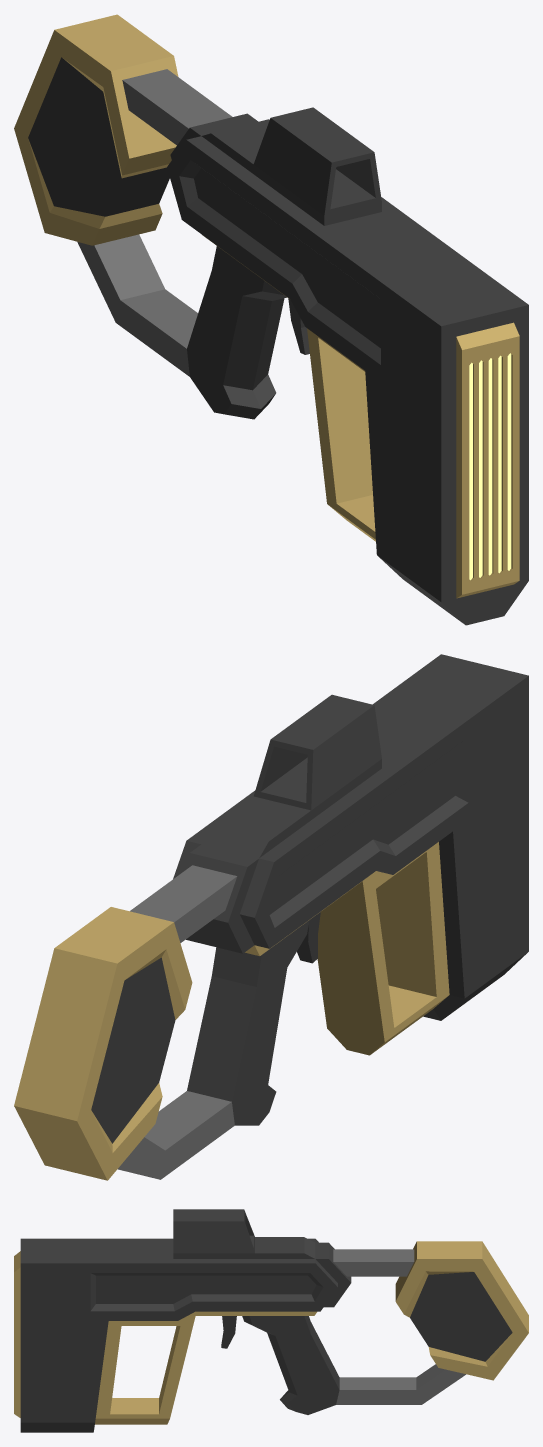
The model's file is LongFlatGun.fbx.
The picture shows the model from 3 angles, top to bottom: view 1: azimuth 30°, elevation 25°; view 2: azimuth 150°, elevation 25°; view 3: azimuth 270°, elevation 25°; orthographic projection. The views are drawn at different scales.
Visible parts, largest first — view 1: LongFlatGun; view 2: LongFlatGun; view 3: LongFlatGun.
Part boxes in pixels (x1,y1,x2,y2): LongFlatGun: (14, 14, 528, 625); LongFlatGun: (14, 654, 528, 1180); LongFlatGun: (14, 1209, 528, 1432).
Size of the model in its own units: 58.97 by 236 by 518.
